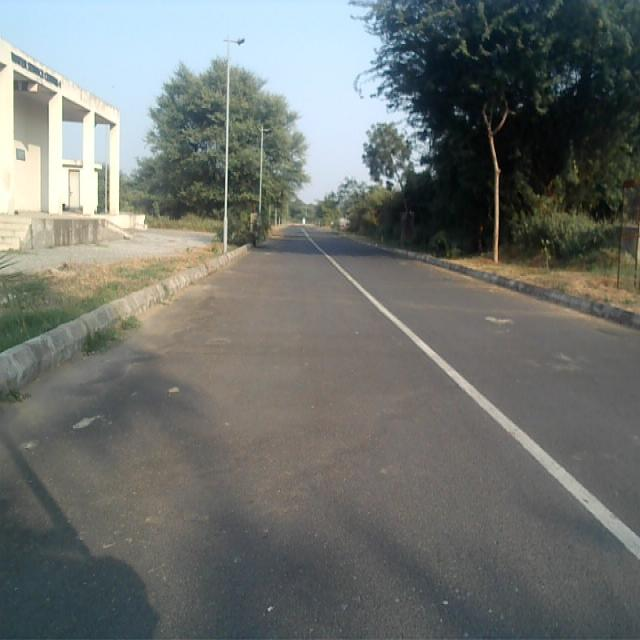lane: (0, 225, 640, 640)
